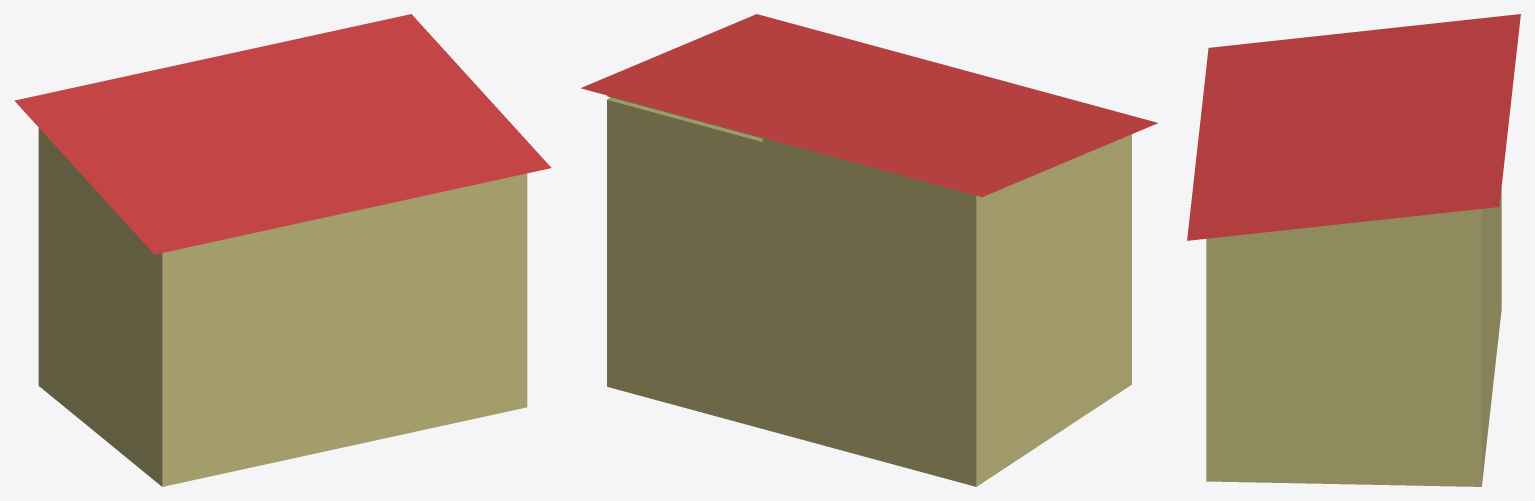
3 renders of one model, left to right at view 1: azimuth 30°, elevation 25°; view 2: azimuth 150°, elevation 25°; view 3: azimuth 270°, elevation 25°, orthographic. The views are drawn at different scales.
Bounding box in the file's own units: 12.78 × 9.05 × 8.62.
